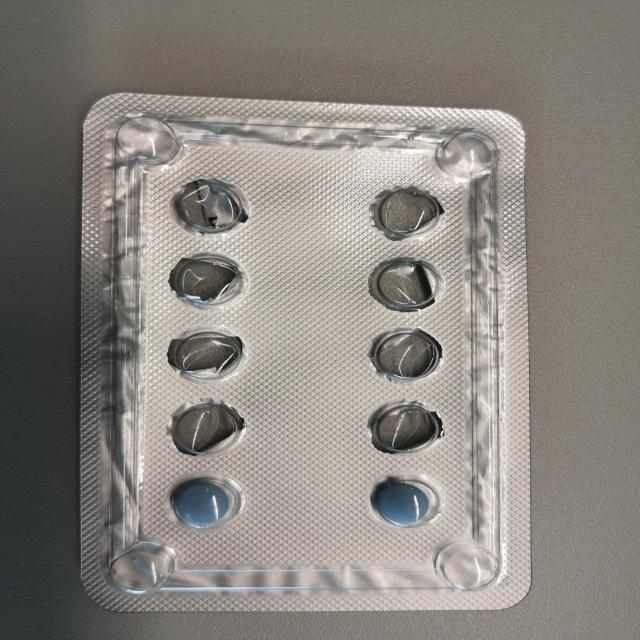Empty: (164, 177, 251, 235), (168, 250, 252, 310), (165, 398, 248, 458), (163, 327, 250, 384), (364, 256, 446, 315), (364, 325, 446, 384), (368, 183, 446, 242), (367, 398, 444, 456)
Pill: (165, 474, 242, 533), (369, 475, 442, 530)
